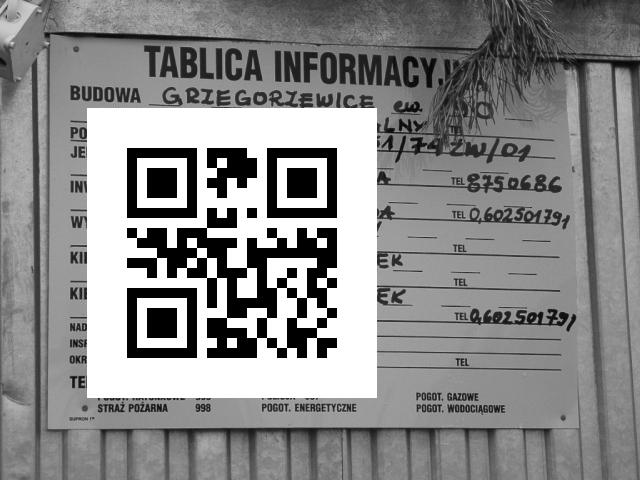qr_code: (87, 108, 377, 397)
